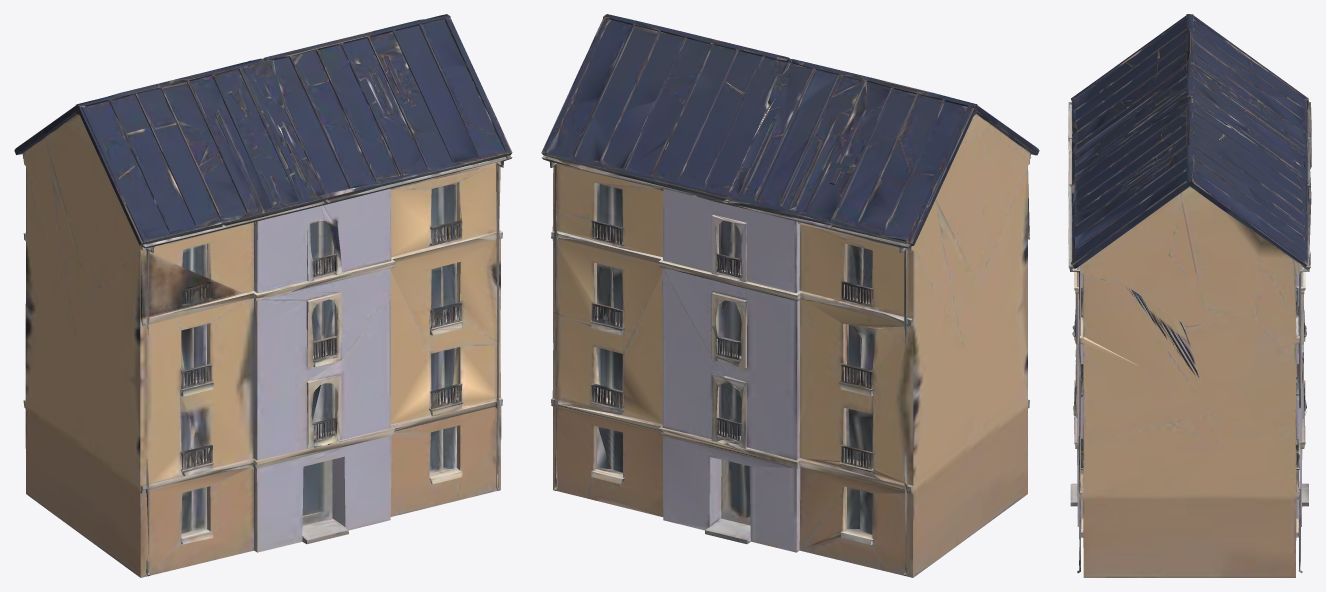
File: immeuble.glb
The picture shows the model from 3 angles, left to right: view 1: azimuth 30°, elevation 25°; view 2: azimuth 150°, elevation 25°; view 3: azimuth 270°, elevation 25°; orthographic projection. The views are drawn at different scales.
Size of the model in its own units: 1.7 by 1.9 by 1.04.
1 material, 1 textured.
